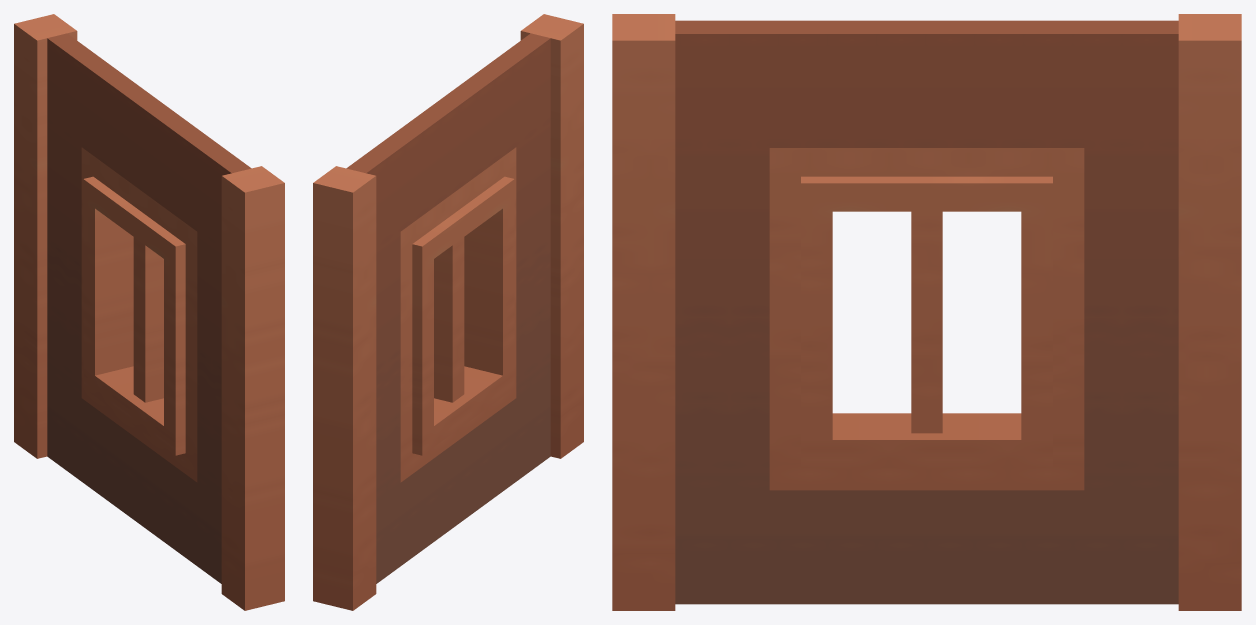
The model's file is wallWoodWindowShutters.fbx.
3 views of the same model, side by side, from view 1: azimuth 30°, elevation 25°; view 2: azimuth 150°, elevation 25°; view 3: azimuth 270°, elevation 25° (orthographic). The views are drawn at different scales.
Parts seen in each view (by area): view 1: wallWoodWindowShutters; view 2: wallWoodWindowShutters; view 3: wallWoodWindowShutters.
Boxes of the visible parts, x1,y1,x2,y2 form: wallWoodWindowShutters: (14,14,284,610); wallWoodWindowShutters: (313,14,583,610); wallWoodWindowShutters: (612,14,1241,610).
Bounding box in the file's own units: 0.1 × 1 × 1.
